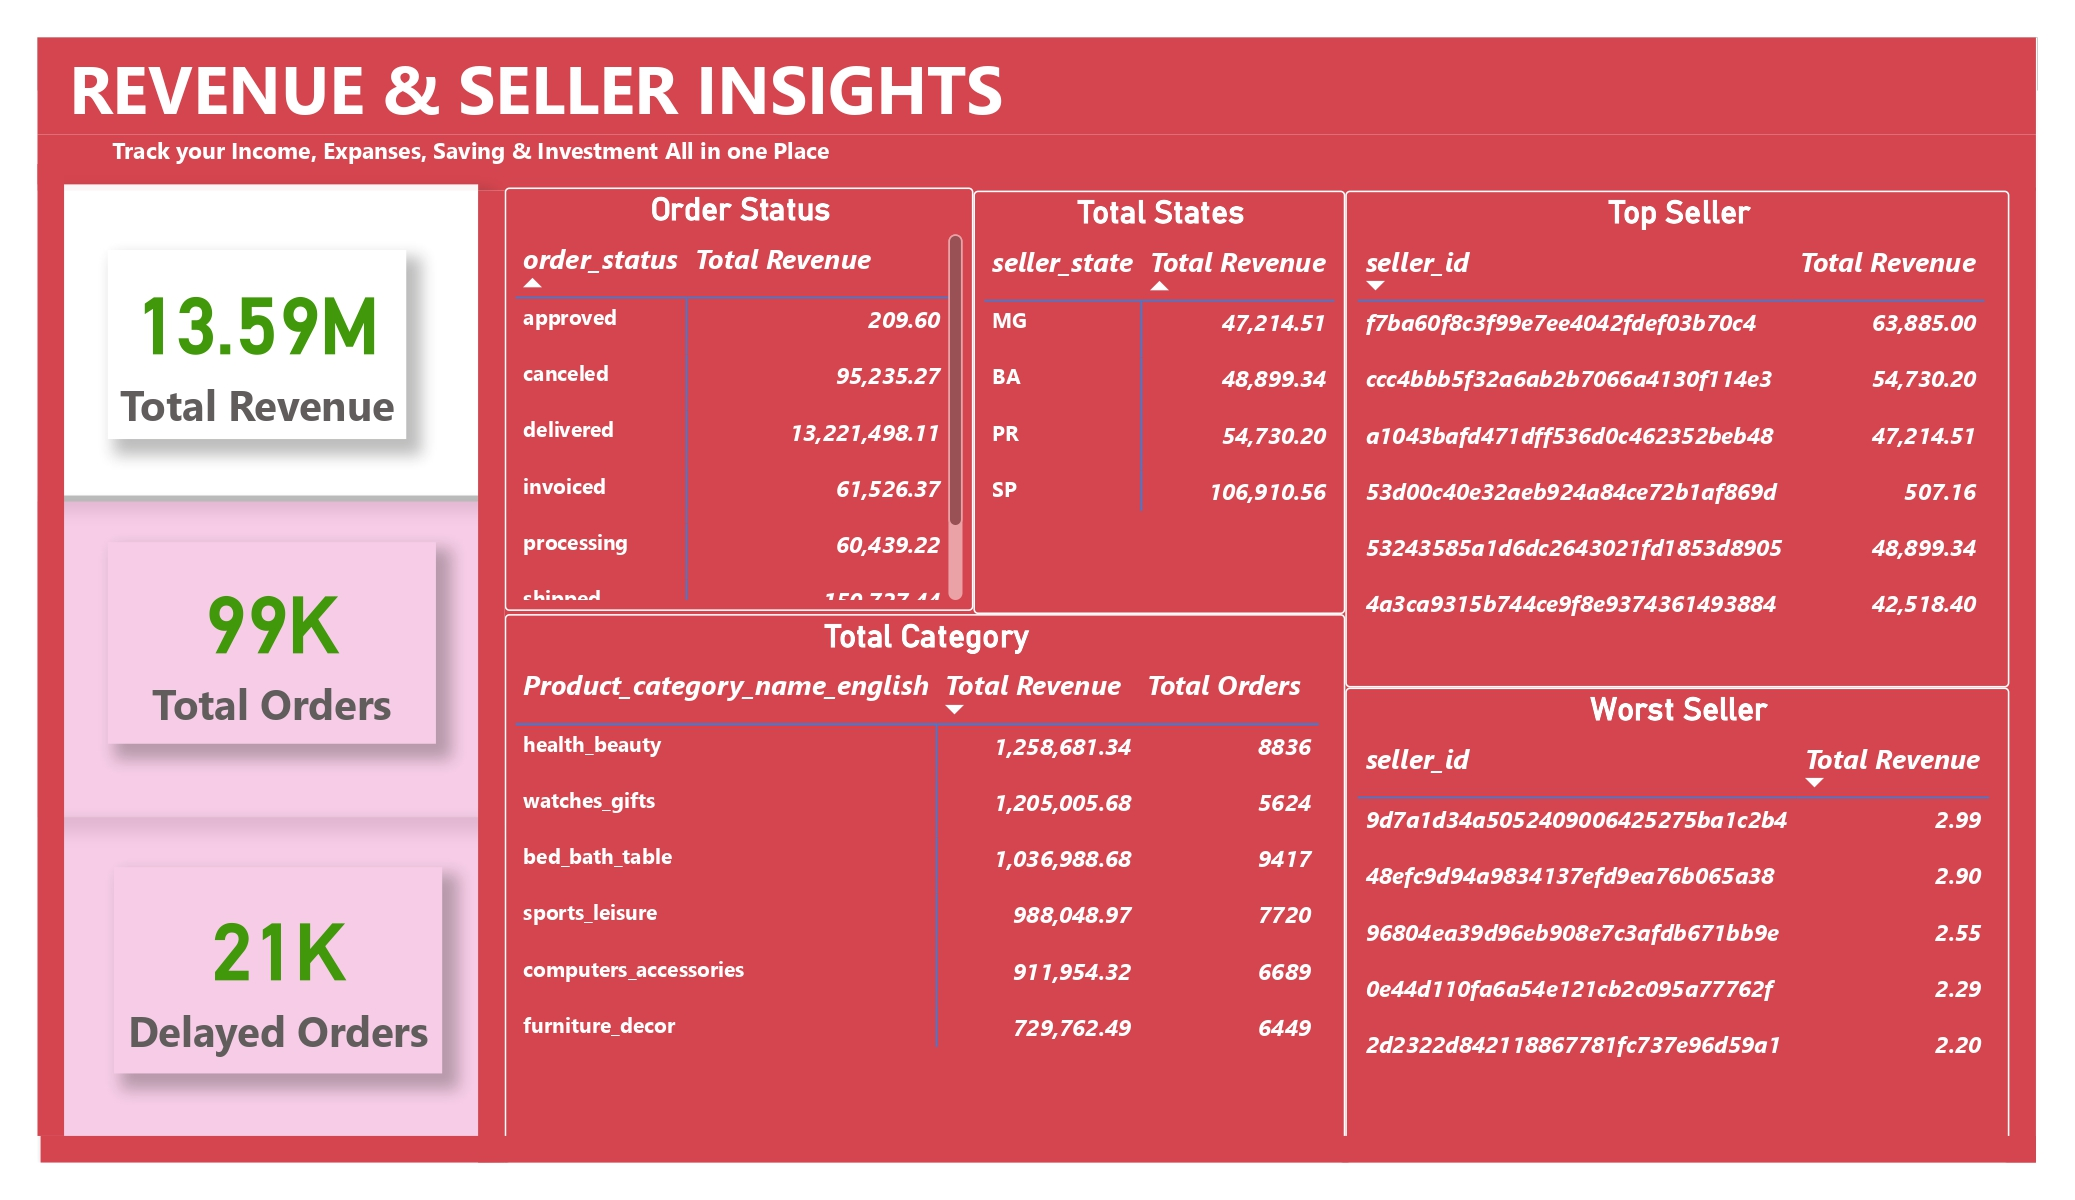

This screenshot's page, from the dashboard's own definition file:
{"tool":"powerbi","page":{"name":"Revenue & Seller Insights","canvas":[1280,720],"ordinal":3},"visuals":[{"type":"shape","box":[298.6,96.4,980.8,623.6],"z":0},{"type":"shape","box":[0,0,1279.4,62.4],"z":1000},{"type":"shape","box":[0,62.4,1279.4,35.9],"z":2000},{"type":"shape","box":[0,94.5,281.6,198.4],"z":3000},{"type":"shape","box":[0,296.7,281.6,202.2],"z":4000},{"type":"shape","box":[1.9,498.9,279.7,221.1],"z":5000},{"type":"card","fields":{"Values":["Measure Table.Total Revenue"]},"box":[45.4,136.1,190.9,120.9],"z":6000},{"type":"card","fields":{"Values":["DateTable.Delayed Orders"]},"box":[49.1,531,209.8,132.3],"z":7000},{"type":"card","fields":{"Values":["DateTable.Total Orders"]},"box":[45.4,323.2,209.8,128.5],"z":8000},{"type":"textbox","box":[281.6,113.4,71.8,83.2],"z":9000},{"type":"textbox","box":[272.1,402.5,71.8,83.2],"z":10000},{"type":"textbox","box":[272.1,606.6,71.8,83.2],"z":11000},{"type":"textbox","box":[272.1,495.1,81.3,83.2],"z":12000},{"type":"tableEx","title":"Top Seller ","fields":{"Values":["olist_order_items_dataset.seller_id","Measure Table.Total Revenue"]},"box":[837.2,98.3,425.2,317.5],"z":13000},{"type":"textbox","box":[1217,94.5,62.4,60.5],"z":14000},{"type":"textbox","box":[878.7,512.1,62.4,60.5],"z":15000},{"type":"textbox","box":[867.4,298.6,88.8,60.5],"z":16000},{"type":"textbox","box":[1217,292.9,62.4,60.5],"z":17000},{"type":"textbox","box":[1262.4,302.4,17,60.5],"z":18000},{"type":"textbox","box":[1217,506.5,62.4,60.5],"z":19000},{"type":"textbox","box":[540.5,546.1,223,102],"z":20000},{"type":"tableEx","title":"Worst Seller","fields":{"Values":["olist_order_items_dataset.seller_id","Measure Table.Total Revenue"]},"box":[837.2,415.8,425.2,304.3],"z":21000},{"type":"textbox","box":[686,219.2,181.4,147.4],"z":22000},{"type":"textbox","box":[1113.1,115.3,166.3,158.7],"z":23000},{"type":"textbox","box":[177.6,98.3,166.3,51],"z":24000},{"type":"pivotTable","title":"Total  Category","fields":{"Rows":["Product Category.Product_category_name_english"],"Values":["Measure Table.Total Revenue","DateTable.Total Orders"]},"box":[298.6,368.5,538.6,351.5],"z":25000},{"type":"pivotTable","title":"Total States","fields":{"Rows":["olist_sellers_dataset.seller_state"],"Values":["Measure Table.Total Revenue"]},"box":[599.1,98.3,238.1,270.2],"z":26000},{"type":"pivotTable","title":"Order Status","fields":{"Rows":["olist_orders_dataset.order_status"],"Values":["Measure Table.Total Revenue"]},"box":[298.6,96.4,300.5,270.2],"z":27000},{"type":"shape","box":[281.6,98.3,17,621.7],"z":28000},{"type":"shape","box":[1.9,703,1277.5,17],"z":29000},{"type":"shape","box":[0,81.3,17,621.7],"z":30000}]}

Visuals, with their boxes on the page's 1280x720 design canvas (x1, y1, x2, y2). These are canvas units, not pixel positions in the 2075x1200 screenshot, which may show the page scaled, cropped or inside an application window:
shape: <region>299, 96, 1279, 720</region>
shape: <region>0, 0, 1279, 62</region>
shape: <region>0, 62, 1279, 98</region>
shape: <region>0, 94, 282, 293</region>
shape: <region>0, 297, 282, 499</region>
shape: <region>2, 499, 282, 720</region>
card - Measure Table.Total Revenue: <region>45, 136, 236, 257</region>
card - DateTable.Delayed Orders: <region>49, 531, 259, 663</region>
card - DateTable.Total Orders: <region>45, 323, 255, 452</region>
textbox: <region>282, 113, 353, 197</region>
textbox: <region>272, 402, 344, 486</region>
textbox: <region>272, 607, 344, 690</region>
textbox: <region>272, 495, 353, 578</region>
"Top Seller " tableEx: <region>837, 98, 1262, 416</region>
textbox: <region>1217, 94, 1279, 155</region>
textbox: <region>879, 512, 941, 573</region>
textbox: <region>867, 299, 956, 359</region>
textbox: <region>1217, 293, 1279, 353</region>
textbox: <region>1262, 302, 1279, 363</region>
textbox: <region>1217, 506, 1279, 567</region>
textbox: <region>540, 546, 764, 648</region>
"Worst Seller" tableEx: <region>837, 416, 1262, 720</region>
textbox: <region>686, 219, 867, 367</region>
textbox: <region>1113, 115, 1279, 274</region>
textbox: <region>178, 98, 344, 149</region>
"Total  Category" pivotTable: <region>299, 368, 837, 720</region>
"Total States" pivotTable: <region>599, 98, 837, 368</region>
"Order Status" pivotTable: <region>299, 96, 599, 367</region>
shape: <region>282, 98, 299, 720</region>
shape: <region>2, 703, 1279, 720</region>
shape: <region>0, 81, 17, 703</region>
